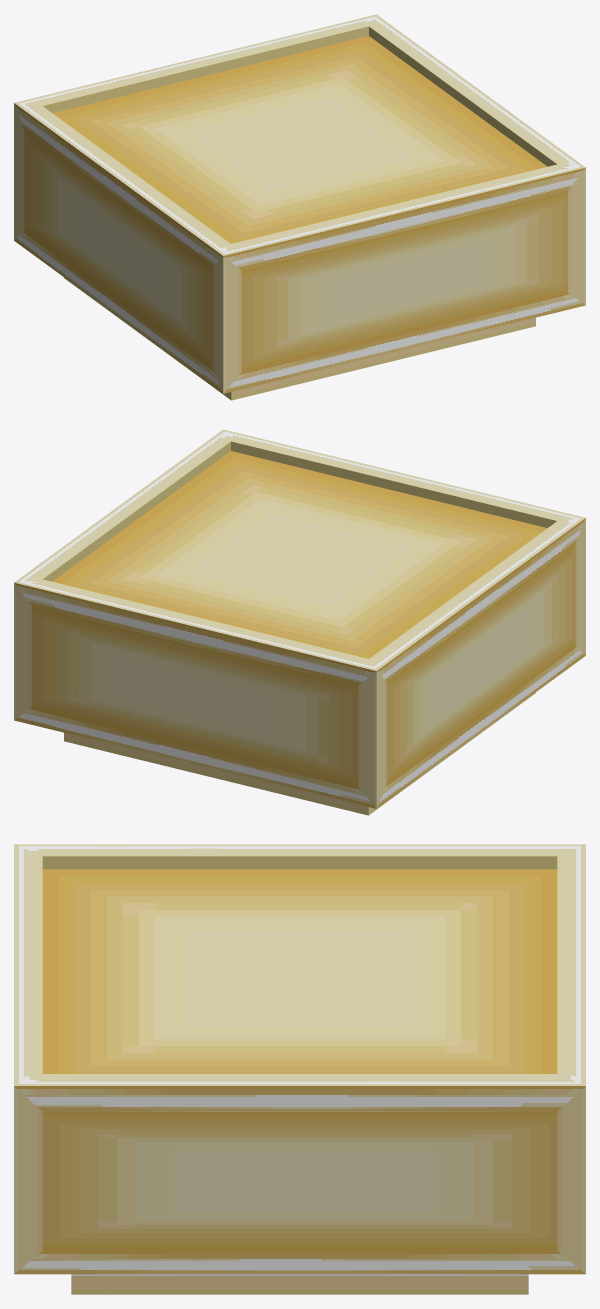
The picture shows the model from 3 angles, top to bottom: view 1: azimuth 30°, elevation 25°; view 2: azimuth 150°, elevation 25°; view 3: azimuth 270°, elevation 25°; orthographic projection. The views are drawn at different scales.
Parts seen in each view (by area): view 1: 3883kg3case11; view 2: 3883kg3case11; view 3: 3883kg3case11.
Boxes of the visible parts, x1=… form: 3883kg3case11: x1=14, y1=14, x2=585, y2=400; 3883kg3case11: x1=14, y1=429, x2=585, y2=815; 3883kg3case11: x1=14, y1=844, x2=585, y2=1294.
Bounding box in the file's own units: 1 × 0.4399 × 1.
2 materials, 2 textured.
